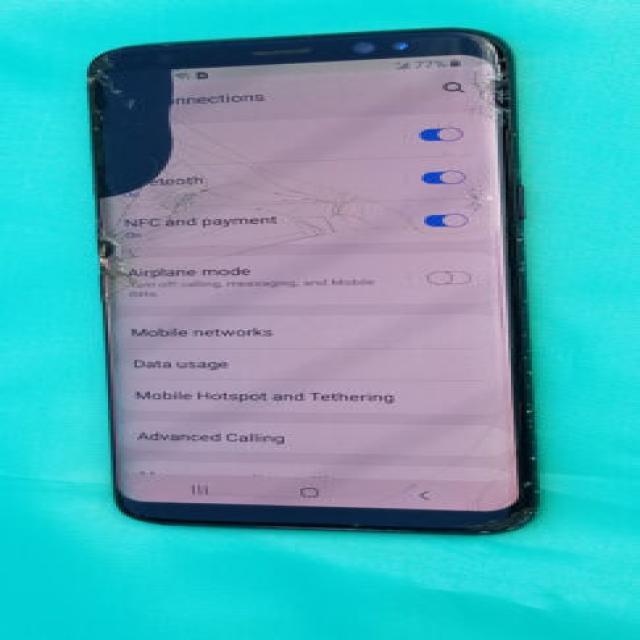Crack: (75, 147, 165, 323), (463, 58, 536, 147), (452, 176, 505, 232)
